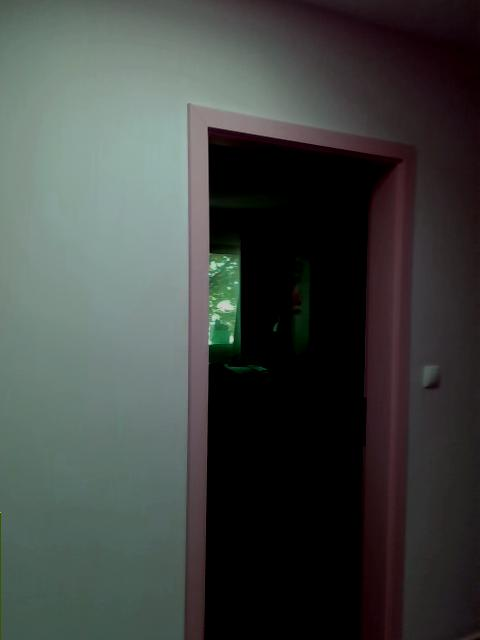open_door: (186, 101, 413, 639)
